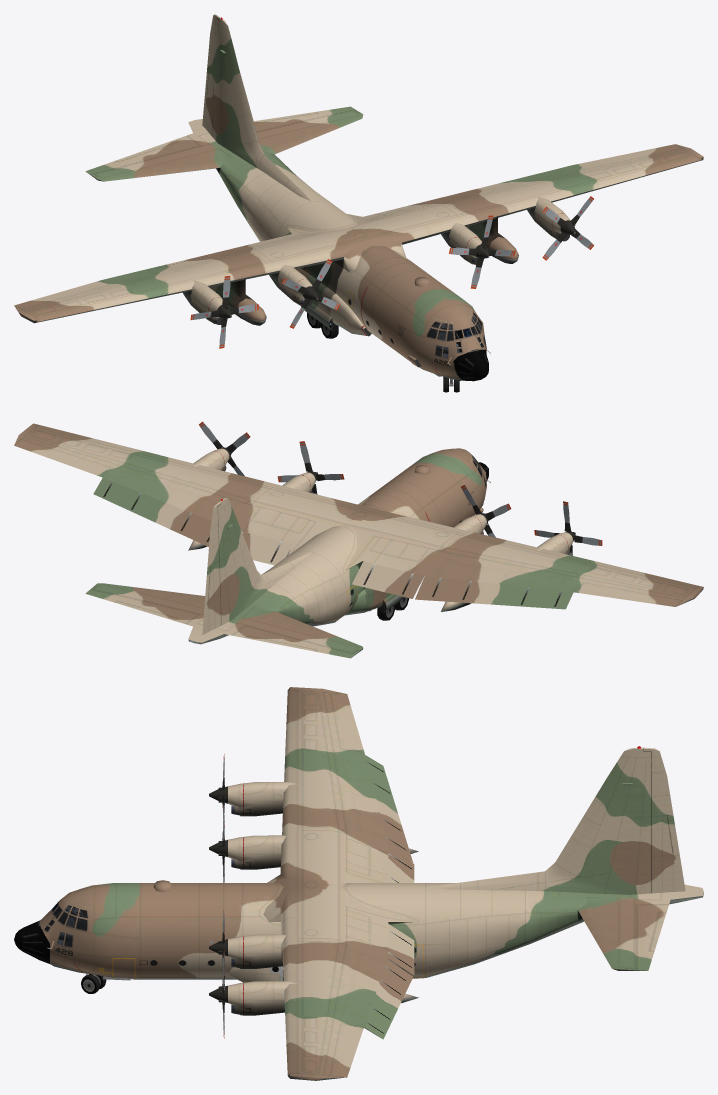
Rendered from ai lockheed c-130h wing_tanks_LOD0.gltf.
3 renders of one model, top to bottom at view 1: azimuth 30°, elevation 25°; view 2: azimuth 150°, elevation 25°; view 3: azimuth 270°, elevation 25°, orthographic. The views are drawn at different scales.
Visible parts, largest first — view 1: node1; view 2: node1; view 3: node1.
Part boxes in pixels (x1=…): node1: x1=14, y1=14, x2=703, y2=392; node1: x1=14, y1=421, x2=703, y2=658; node1: x1=14, y1=687, x2=703, y2=1080.
Bounding box in the file's own units: 40.43 × 11.87 × 30.18.
